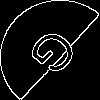G: (25, 25, 89, 85)
